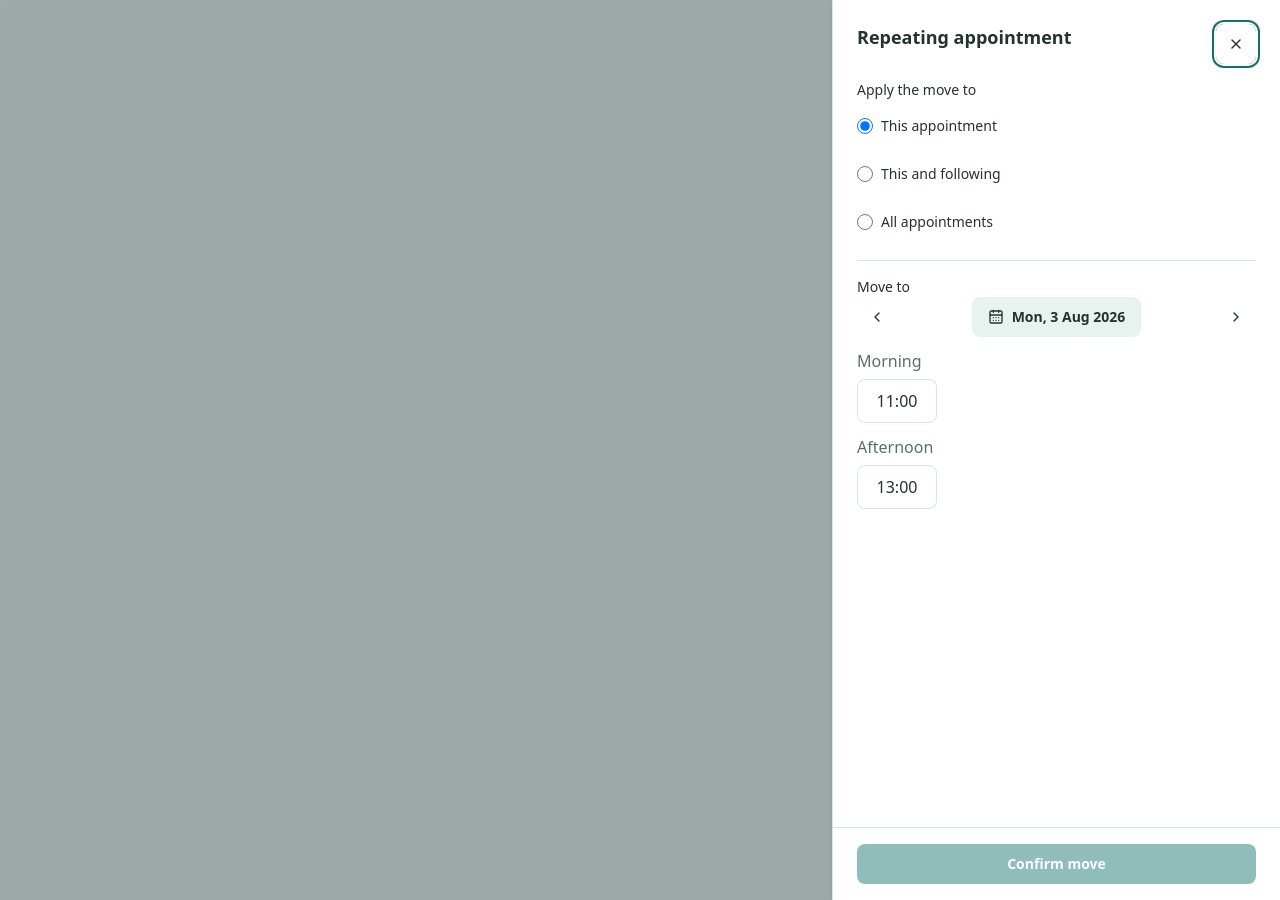
Test case: SeriesDialog › requires confirming the selected slot before moving an occurrence
Expected: the radio button labelled "This appointment" is checked, top-left (857, 118), bottom-right (873, 134)
Click the button "11:00" at [897, 401], box top-left (857, 379), bottom-right (937, 423)
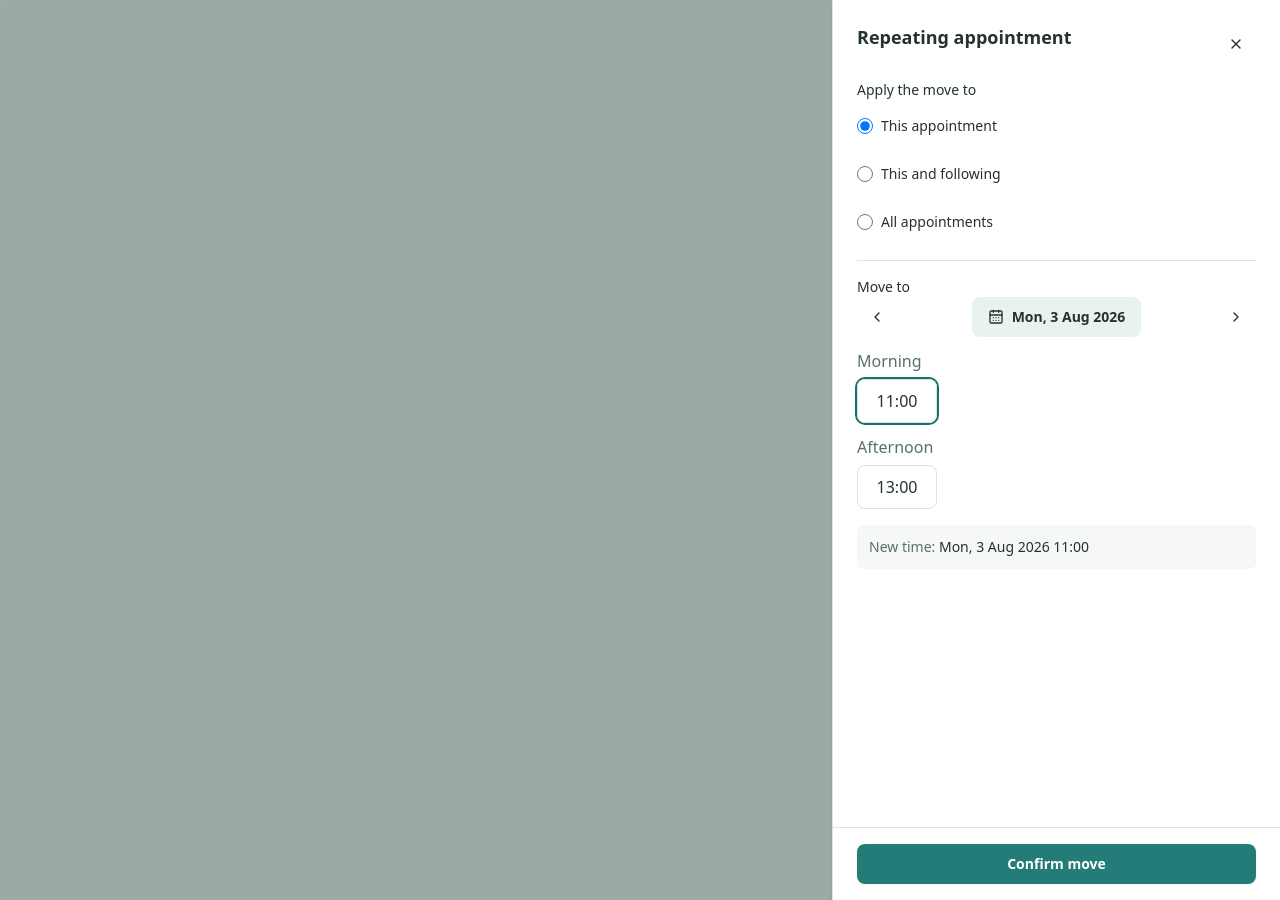
Click the button "Confirm move" at [1056, 864], box top-left (857, 844), bottom-right (1256, 884)
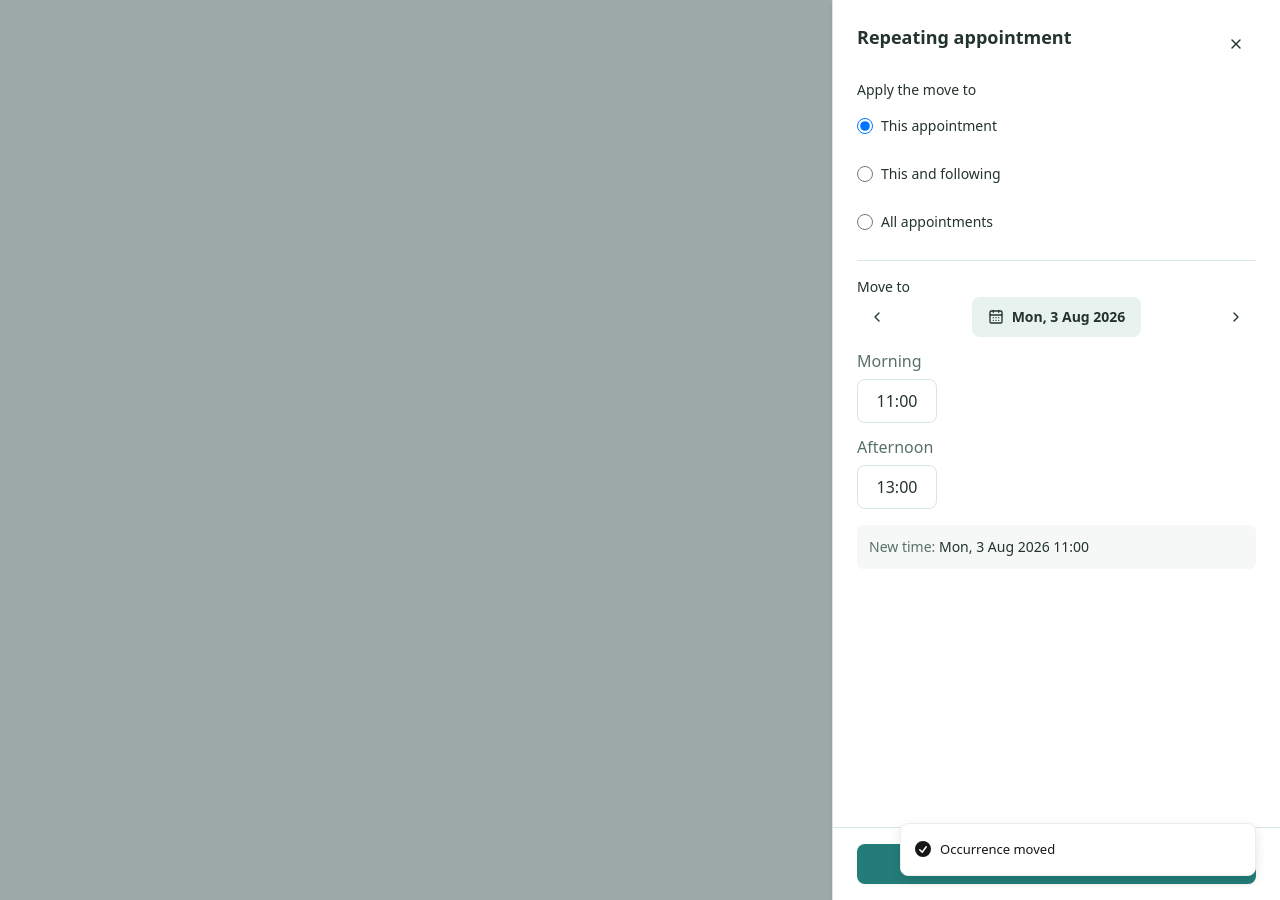
Expected: the text "Occurrence moved" is shown, top-left (940, 840), bottom-right (1055, 859)
